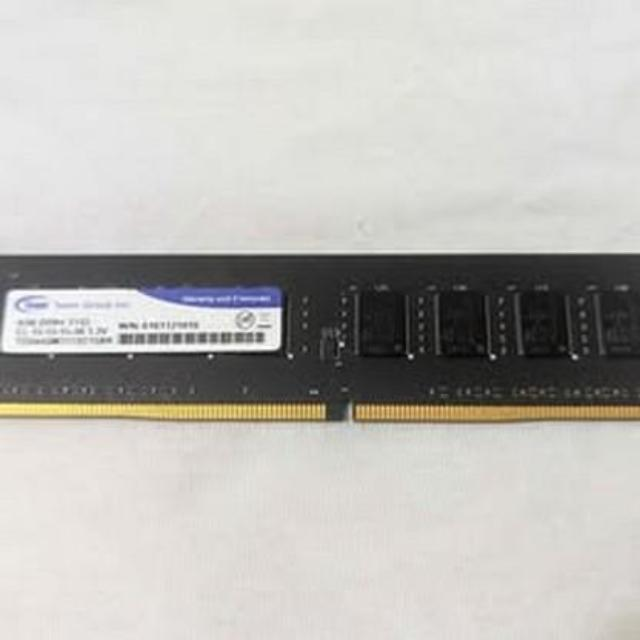RAM: (0, 249, 640, 429)
